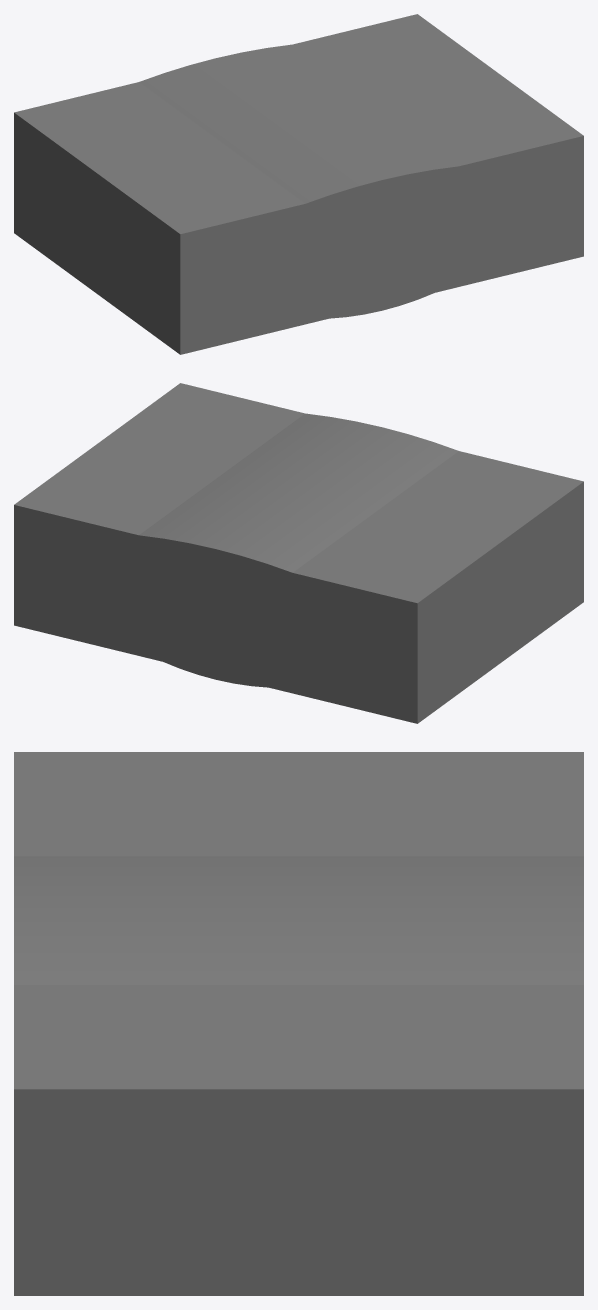
The picture shows the model from 3 angles, top to bottom: view 1: azimuth 30°, elevation 25°; view 2: azimuth 150°, elevation 25°; view 3: azimuth 270°, elevation 25°; orthographic projection. The views are drawn at different scales.
Visible parts, largest first — view 1: mesh_id4, mesh_id5; view 2: mesh_id4, mesh_id5; view 3: mesh_id4, mesh_id5.
Boxes of the visible parts, box(x1,y1,x2,y2) form: mesh_id4: box(14, 14, 583, 354); mesh_id5: box(139, 44, 458, 318); mesh_id4: box(14, 383, 583, 723); mesh_id5: box(139, 413, 458, 687); mesh_id4: box(14, 752, 583, 1295); mesh_id5: box(14, 856, 583, 984).
Bounding box in the file's own units: 0.512 × 0.1585 × 0.3657.
2 materials, 2 textured.
